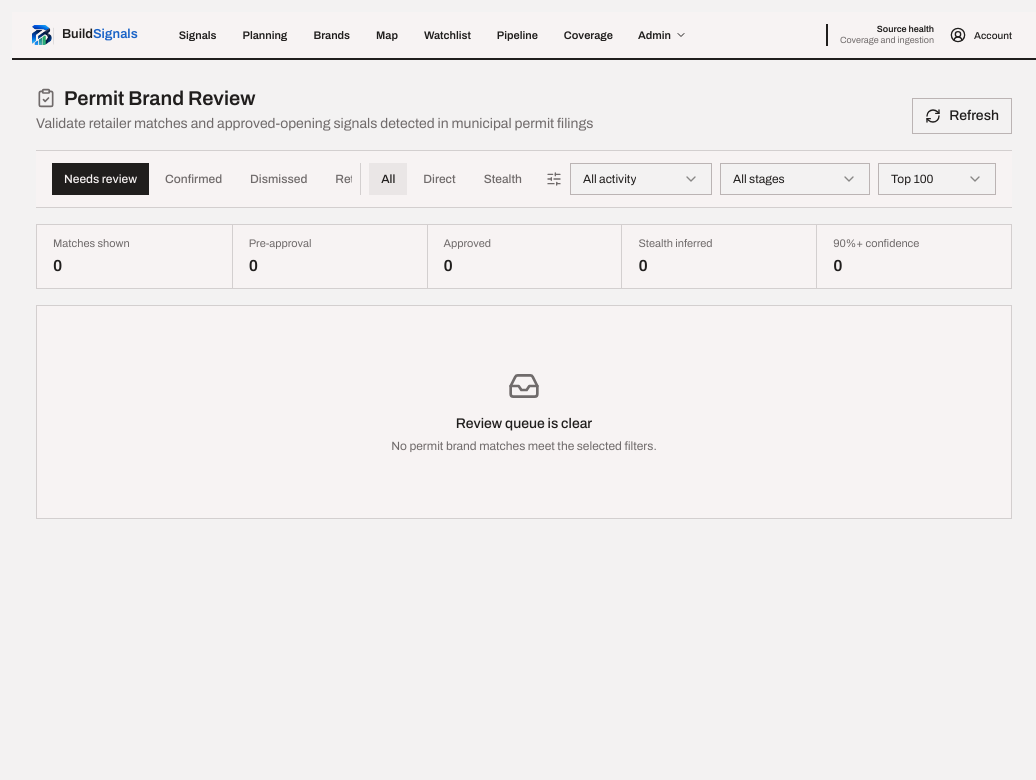
Test: <PermitBrandReview> › syncs the filter state back into the queue URL
Click the button "Confirmed" at (194, 179), box [153,163,234,195]
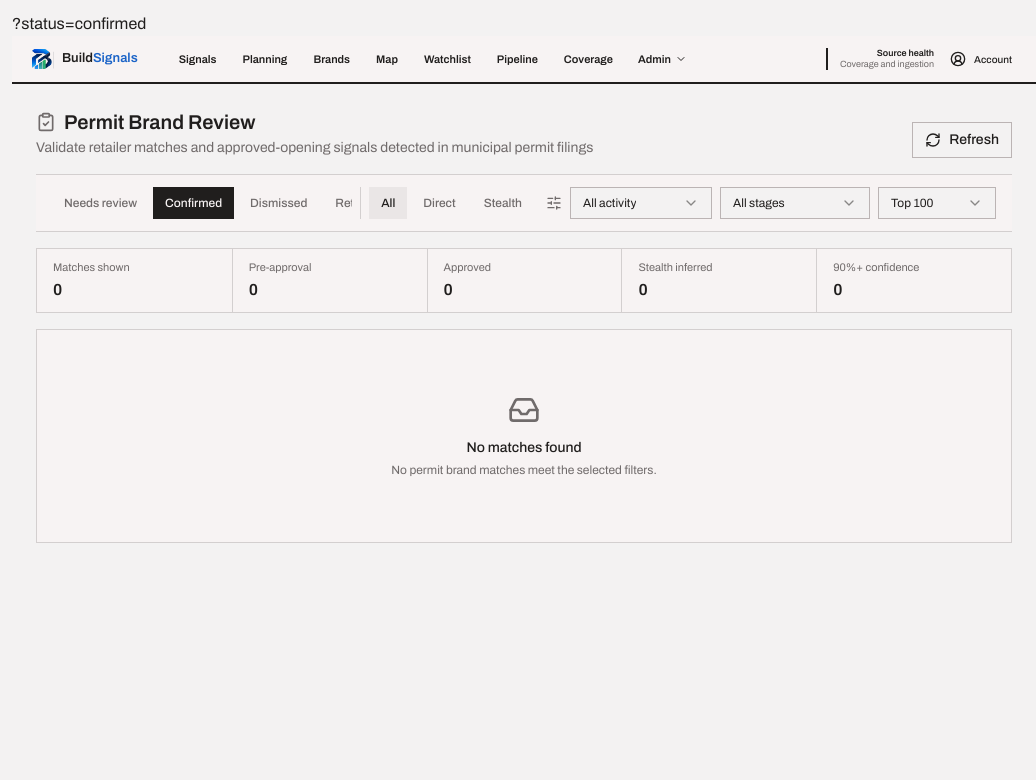
Now the text with test id "location-probe" shows "status=confirmed", box [12,15,146,32]
